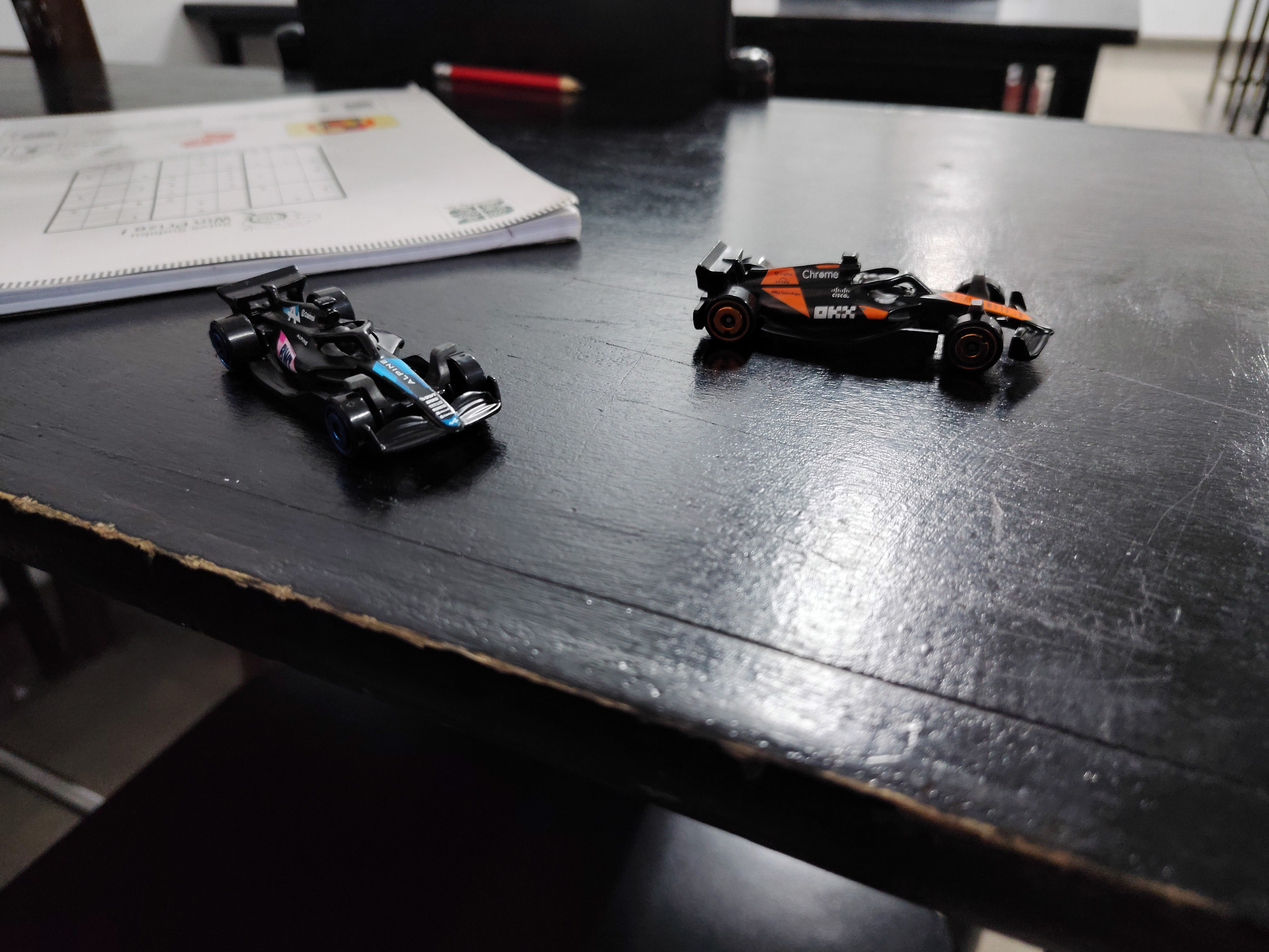Alpine A524: (180, 222, 520, 496)
McLaren MCL40: (663, 220, 1091, 409)
